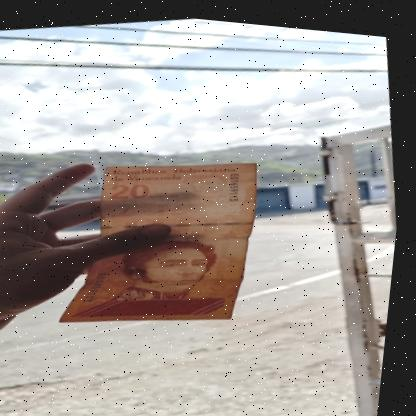twenty-front-vef: (39, 135, 284, 343)
